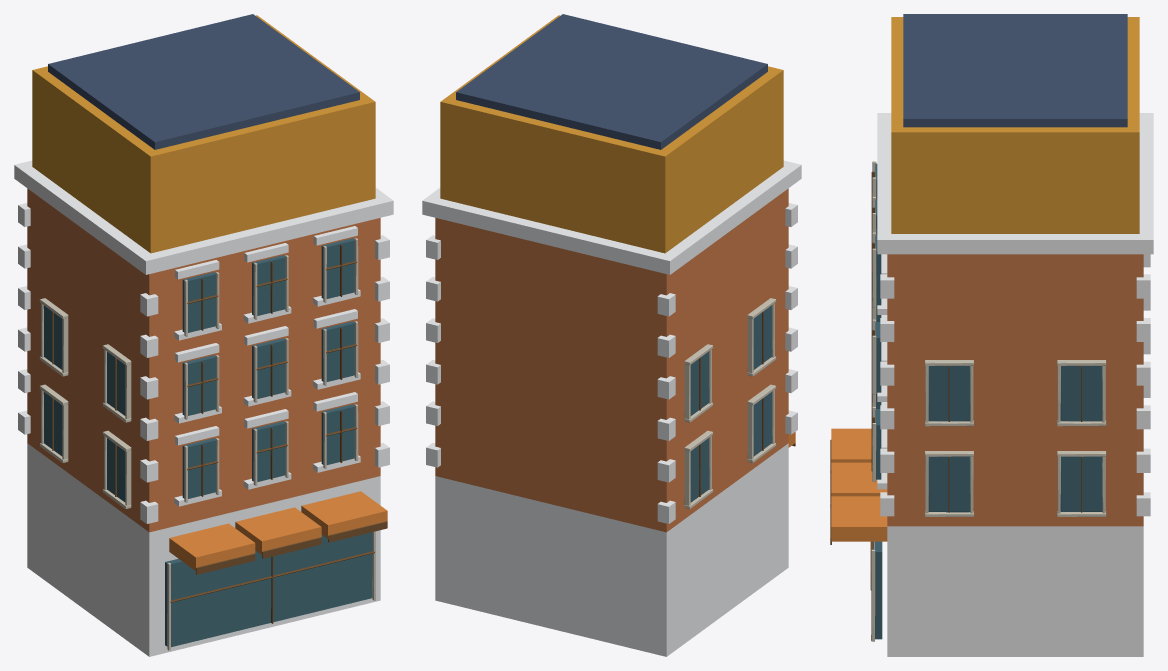
The model's file is city_detail_02-lod.glb.
The picture shows the model from 3 angles, left to right: view 1: azimuth 30°, elevation 25°; view 2: azimuth 150°, elevation 25°; view 3: azimuth 270°, elevation 25°; orthographic projection. The views are drawn at different scales.
Parts seen in each view (by area): view 1: Exterior architecture detail 2; view 2: Exterior architecture detail 2; view 3: Exterior architecture detail 2.
Boxes of the visible parts, x1,y1,x2,y2 form: Exterior architecture detail 2: (14,14,393,656); Exterior architecture detail 2: (422,14,801,656); Exterior architecture detail 2: (830,14,1153,656).
Bounding box in the file's own units: 7.5 × 14.62 × 8.07.
